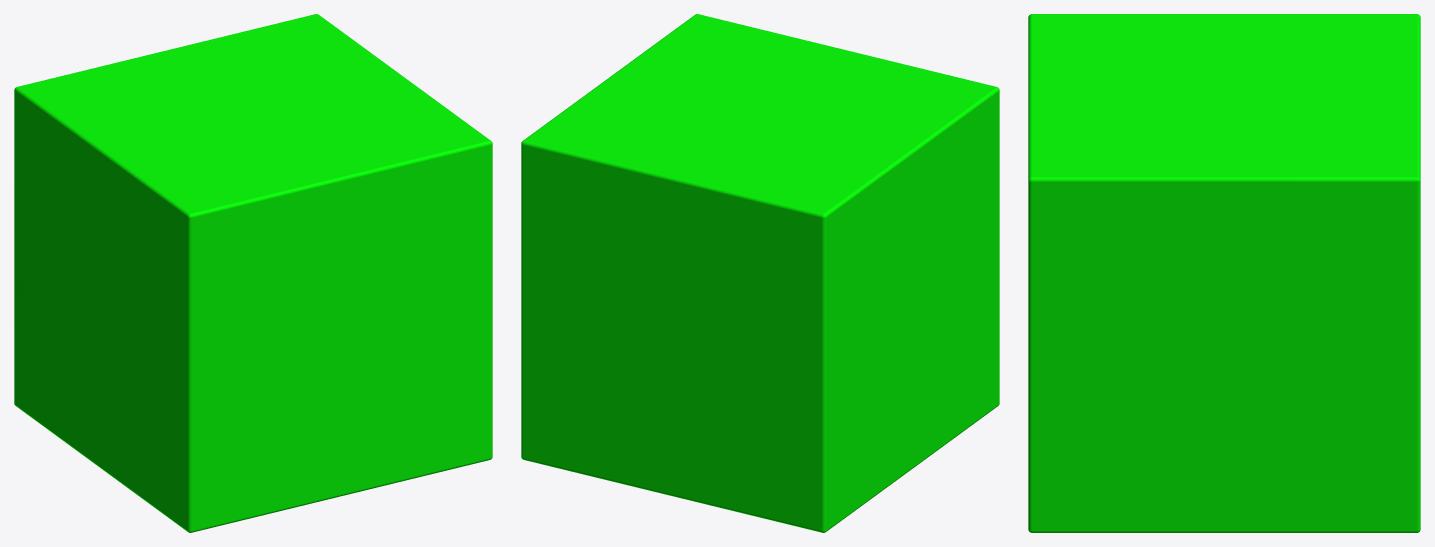
Rendered from obstacle2.obj.
3 views of the same model, side by side, from view 1: azimuth 30°, elevation 25°; view 2: azimuth 150°, elevation 25°; view 3: azimuth 270°, elevation 25° (orthographic). The views are drawn at different scales.
Parts seen in each view (by area): view 1: white_obstacle2; view 2: white_obstacle2; view 3: white_obstacle2.
Boxes of the visible parts, bbox=[...] form: white_obstacle2: bbox=[14, 14, 492, 532]; white_obstacle2: bbox=[521, 14, 999, 532]; white_obstacle2: bbox=[1028, 14, 1420, 532].
Size of the model in its own units: 100 by 100 by 100.
Materials: 1 (1 with a texture image).
